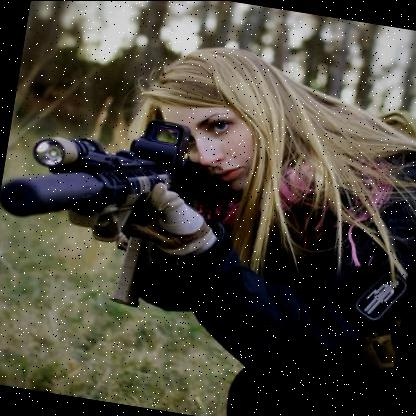rifle: (0, 63, 241, 321)
